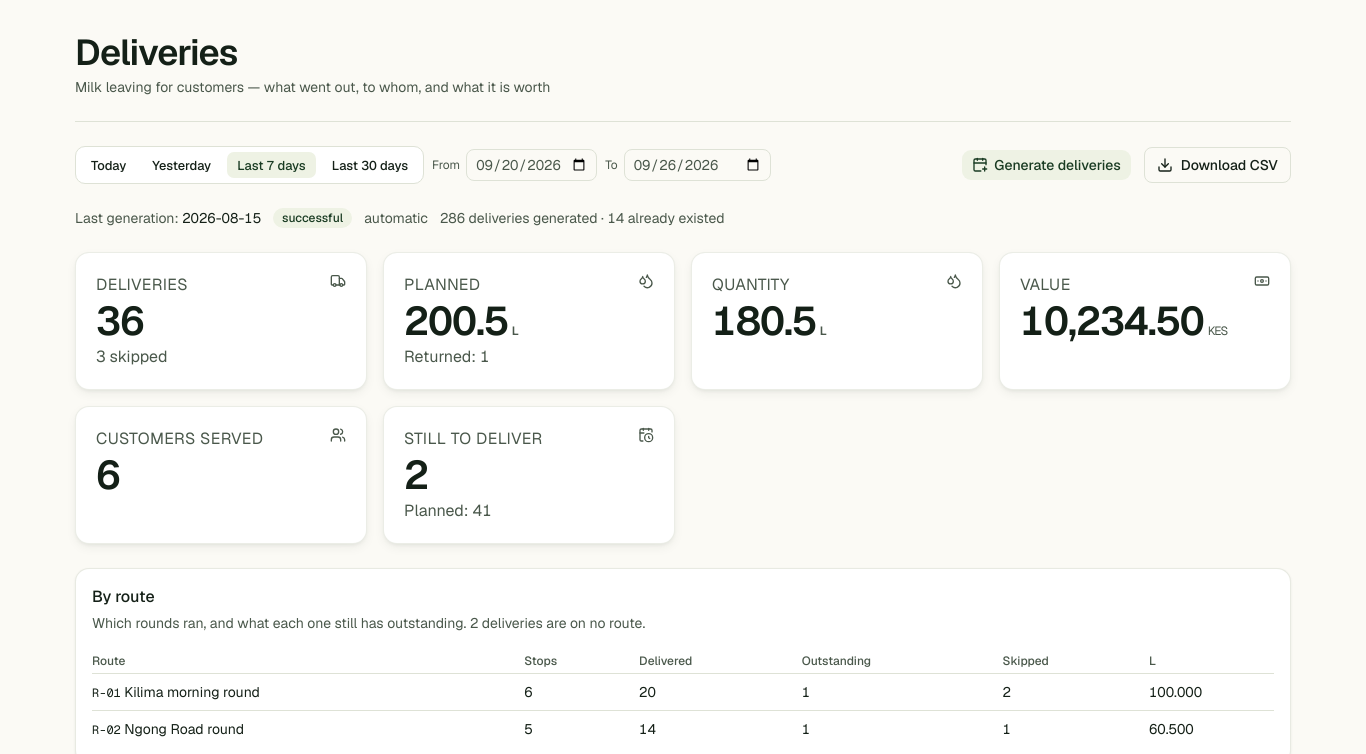
Test: standing orders (DEMO-016) › generates the round through the platform and reports what it did
Click the button "Generate deliveries".
click(1047, 165)  # box [961,149,1132,181]
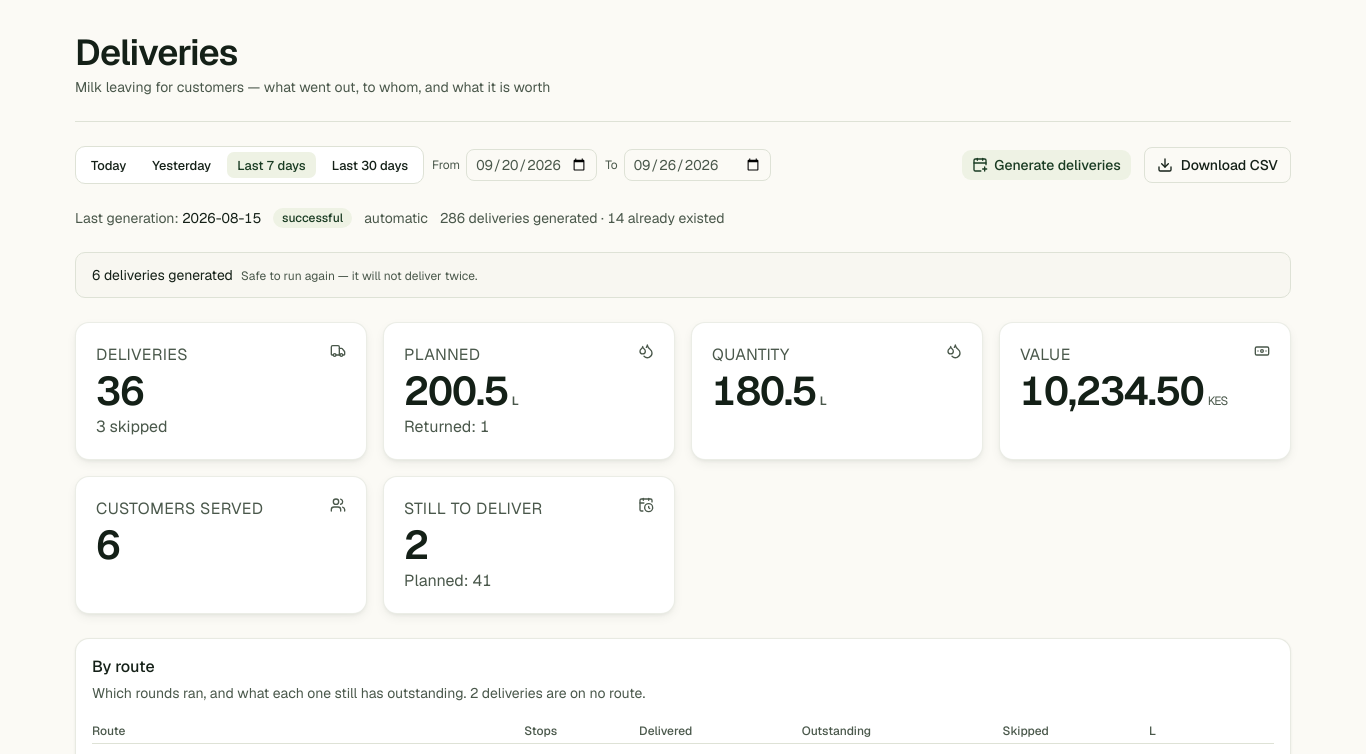
Result: the message shows "6 deliveries generated" at [92,266,233,284]
